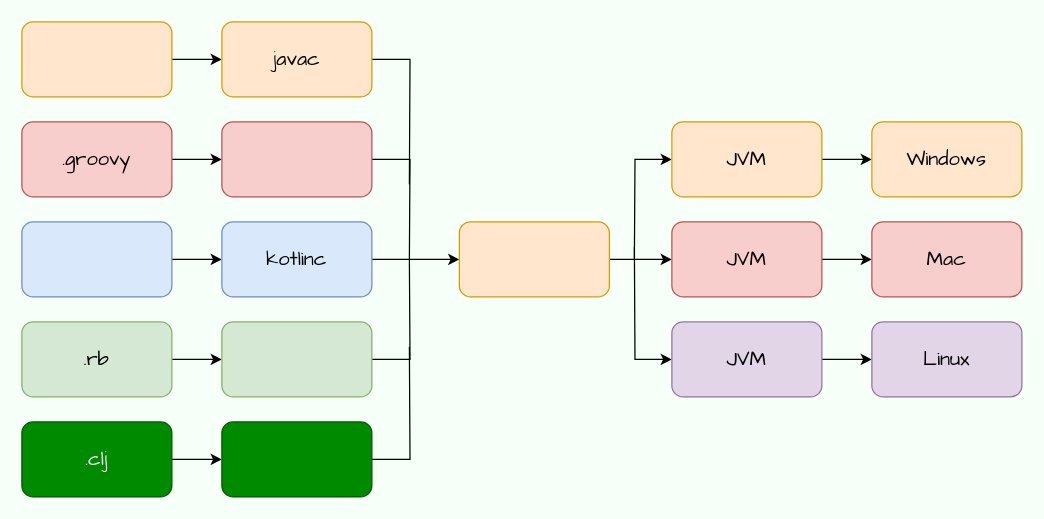
Some shapes in this 1044 by 519 pixel diagram are drawn without their labels. The shapes that lost their labels are listed below. From the top down, each one's centre as x and y in pixels, then its label:
At (x=96, y=59): ".java".
At (x=296, y=159): "groovyc".
At (x=96, y=259): ".kt".
At (x=533, y=259): ".class".
At (x=296, y=359): "jruby".
At (x=296, y=459): "clj".
